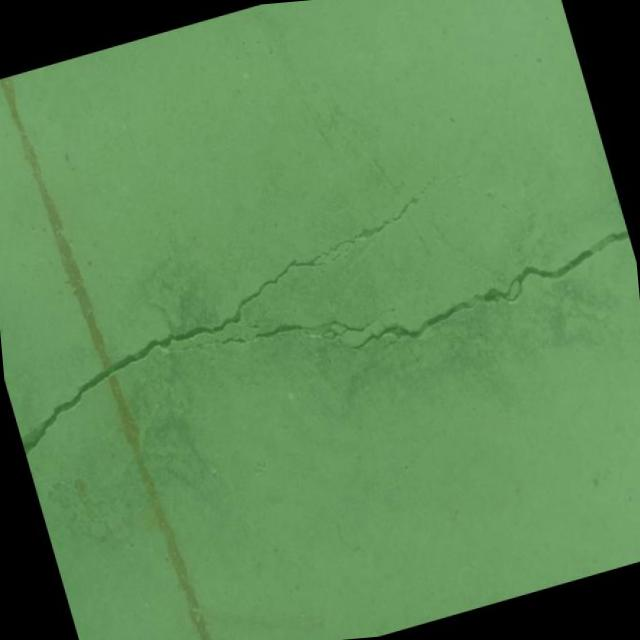crack: (0, 192, 465, 457), (334, 226, 640, 359), (246, 320, 262, 332)
